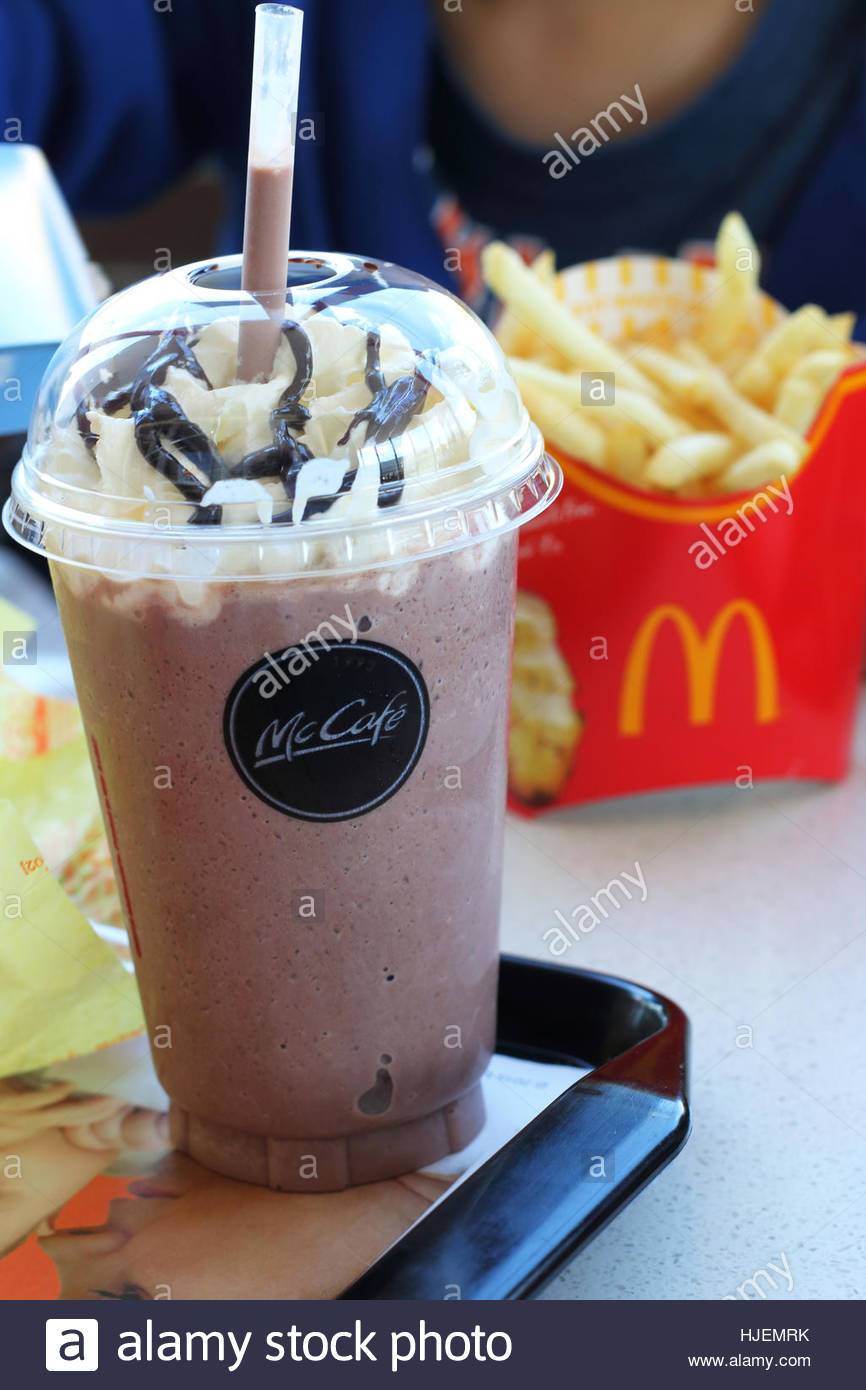mcdonalds: (608, 590, 806, 756)
